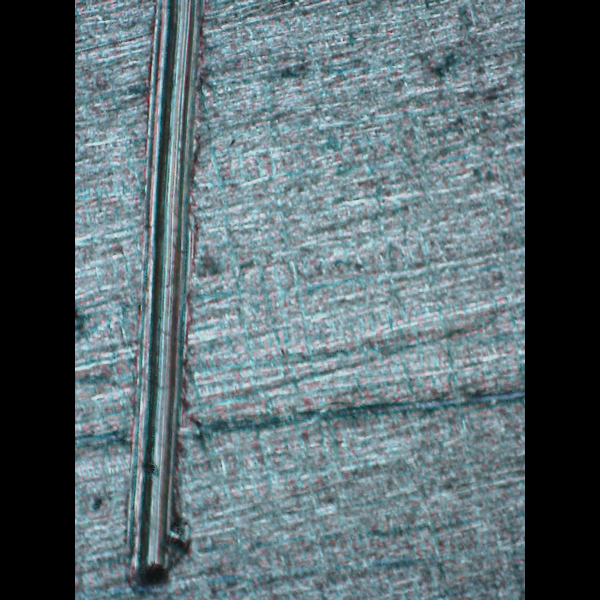d: (115, 0, 222, 594)
